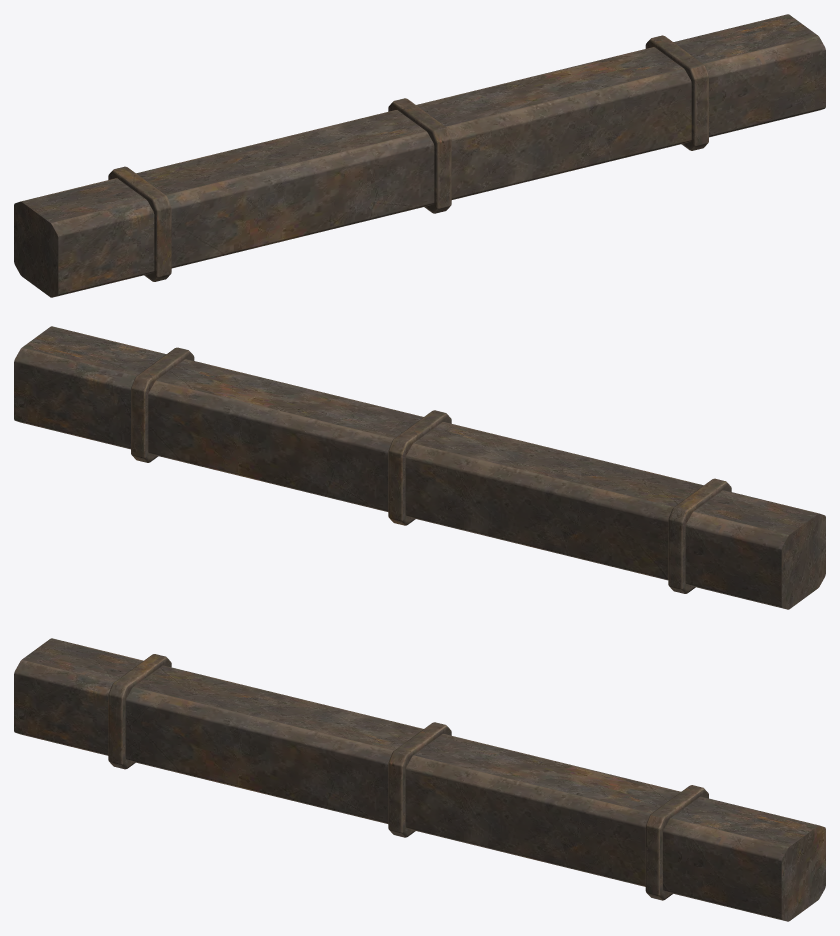
The picture shows the model from 3 angles, top to bottom: view 1: azimuth 30°, elevation 25°; view 2: azimuth 150°, elevation 25°; view 3: azimuth 330°, elevation 25°; orthographic projection.
Visible parts, largest first — view 1: SM_BB_T3_Extended_Beam_Thin_Large_Horizontal_LOD0; view 2: SM_BB_T3_Extended_Beam_Thin_Large_Horizontal_LOD0; view 3: SM_BB_T3_Extended_Beam_Thin_Large_Horizontal_LOD0.
Boxes of the visible parts, box(x1,y1,x2,y2) form: SM_BB_T3_Extended_Beam_Thin_Large_Horizontal_LOD0: box(14, 14, 825, 297); SM_BB_T3_Extended_Beam_Thin_Large_Horizontal_LOD0: box(14, 326, 825, 609); SM_BB_T3_Extended_Beam_Thin_Large_Horizontal_LOD0: box(14, 638, 825, 921).
Bounding box in the file's own units: 3 × 0.3135 × 0.3368.
1 material, 1 textured.
